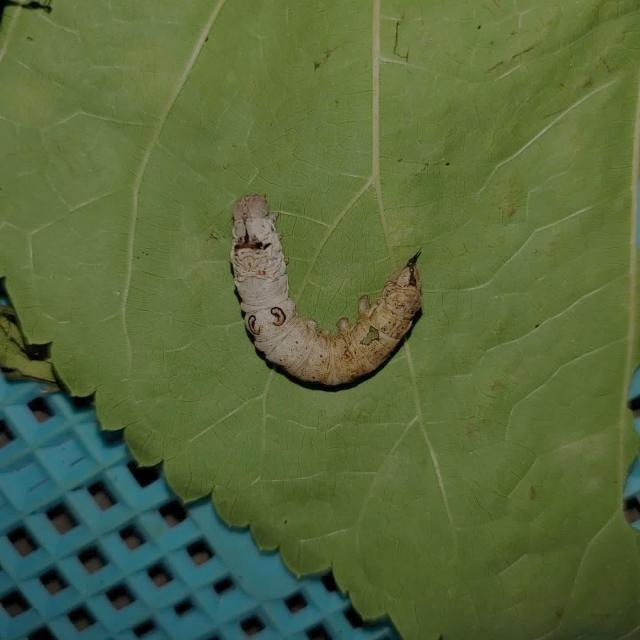Grasserie: (193, 169, 469, 429)
